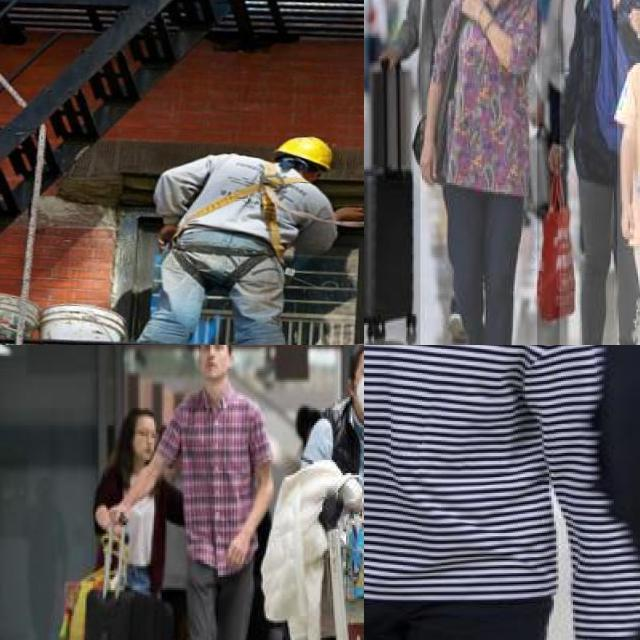Harness: (183, 160, 308, 258)
face_mask: (354, 353, 364, 416)
face_nomask: (130, 416, 159, 460), (200, 345, 230, 386)
hand_noglove: (543, 140, 570, 180), (416, 141, 440, 186), (614, 202, 638, 245), (376, 46, 400, 78)
head_nohelmet: (127, 406, 157, 427)
person: (364, 345, 638, 640), (420, 0, 538, 345), (559, 0, 640, 345), (170, 345, 263, 640), (293, 345, 364, 640)
shoes: (466, 320, 495, 345)
